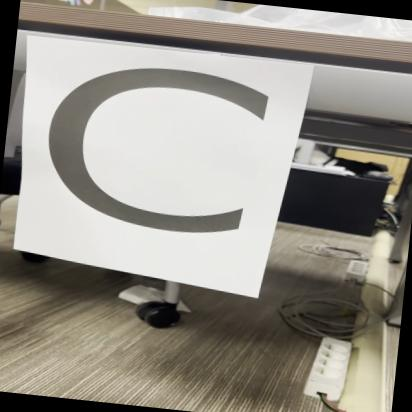seat: (0, 34, 296, 296)
